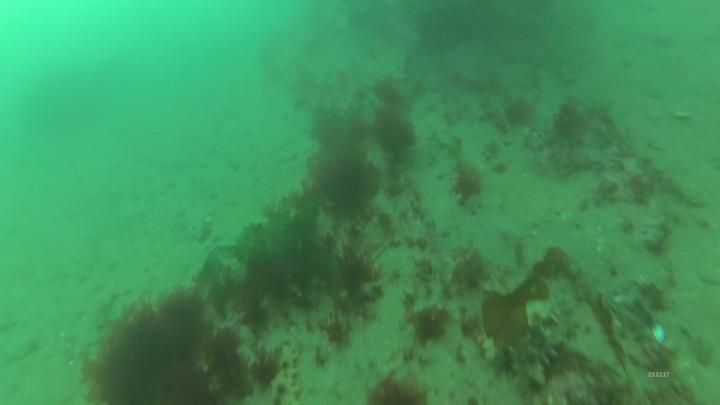holothurian: (509, 297, 574, 393), (270, 338, 308, 405)
waterweeds: (78, 93, 413, 405)
